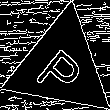P_NE: (31, 35, 90, 98)
